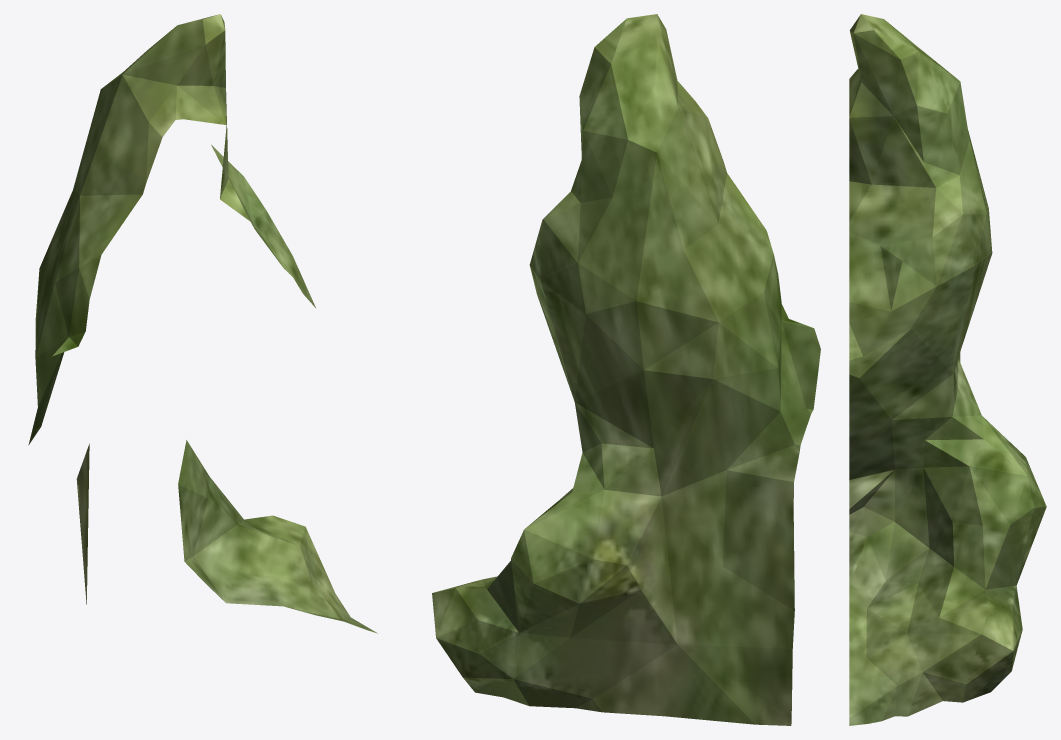
3 views of the same model, side by side, from view 1: azimuth 30°, elevation 25°; view 2: azimuth 150°, elevation 25°; view 3: azimuth 270°, elevation 25° (orthographic). The views are drawn at different scales.
Size of the model in its own units: 1.02 by 1.86 by 0.5316.
1 material, 1 textured.
